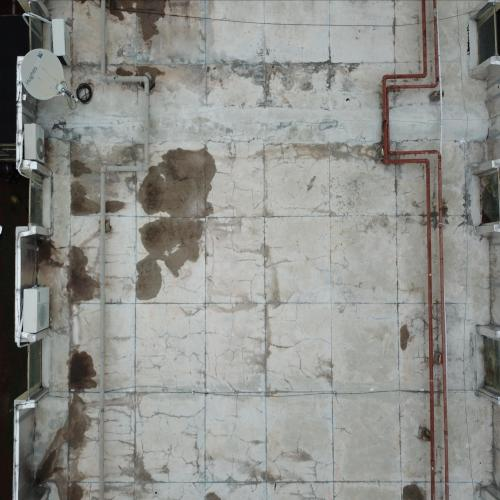conde: (20, 283, 53, 338), (49, 14, 75, 70), (21, 120, 50, 168)
